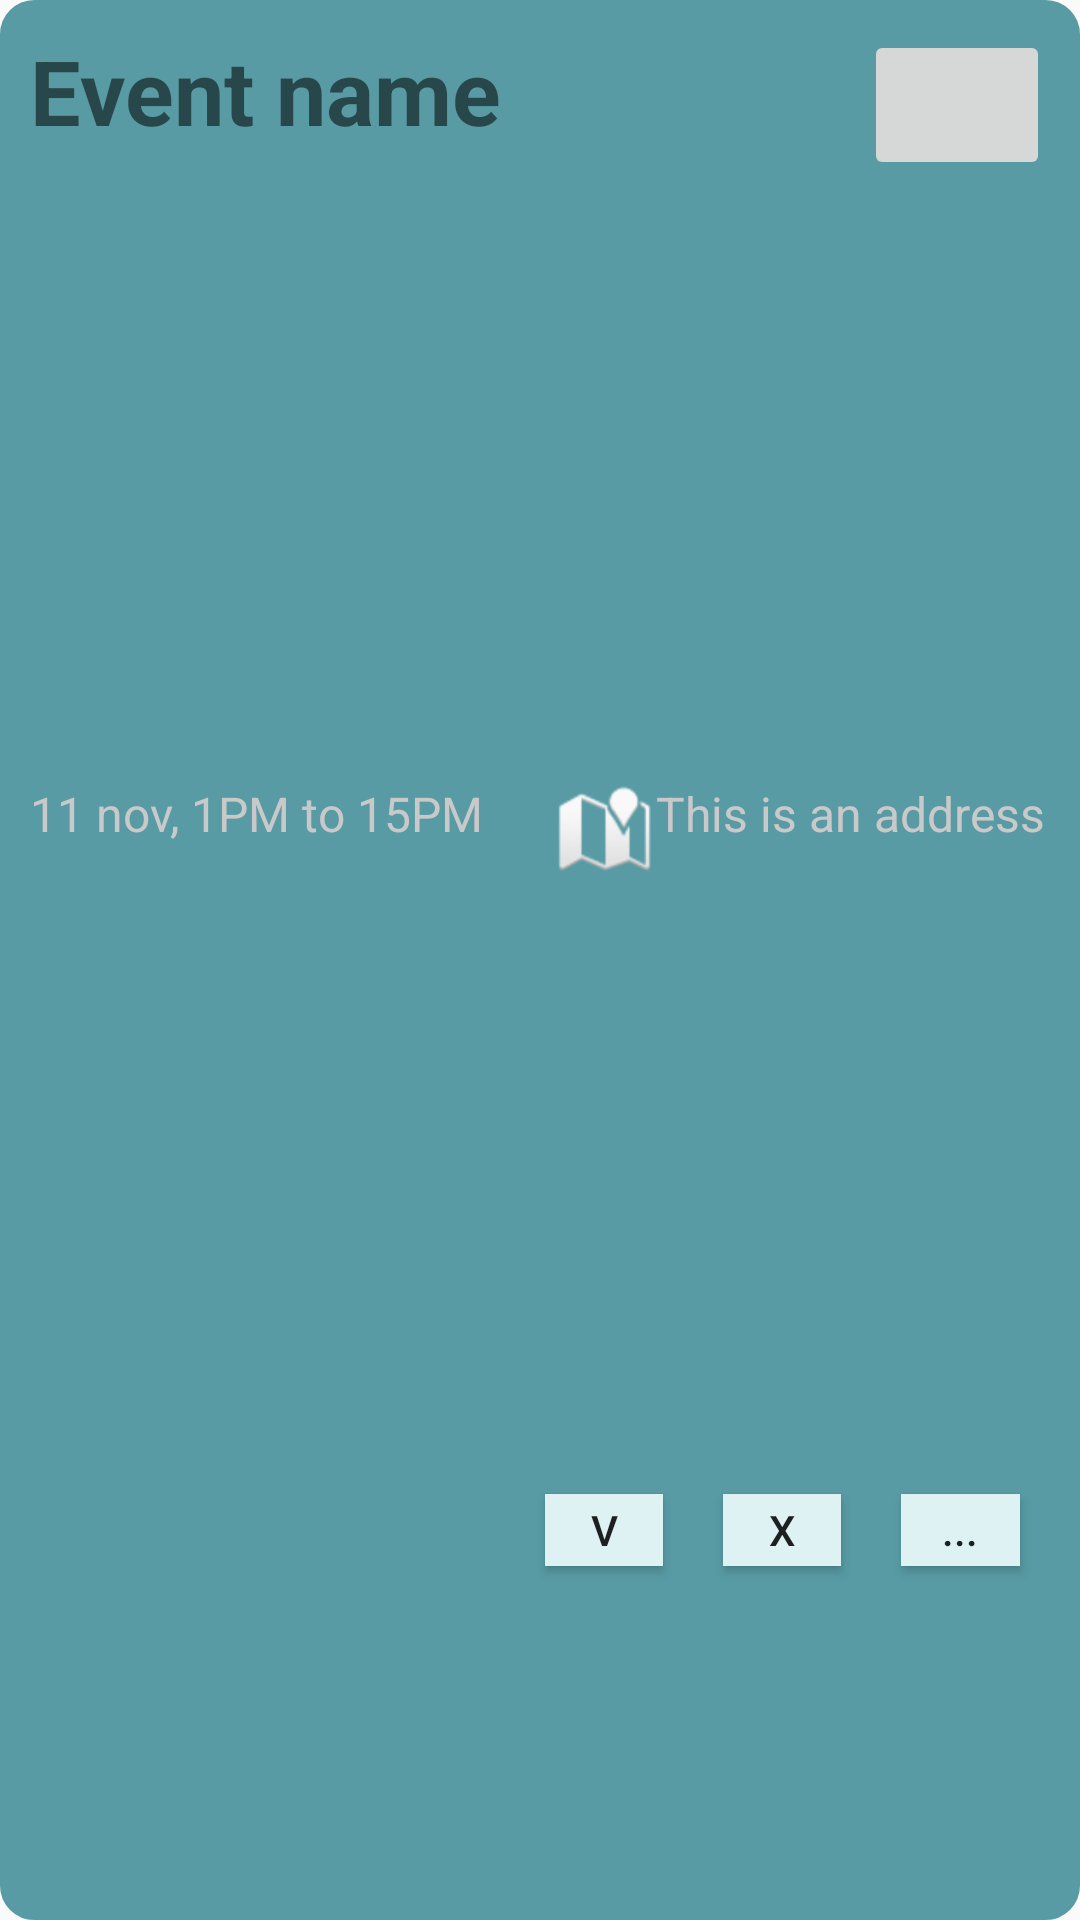

Named icons in this screenshot (1080*1920) and their centers, (x,y):
map: (605,828)
